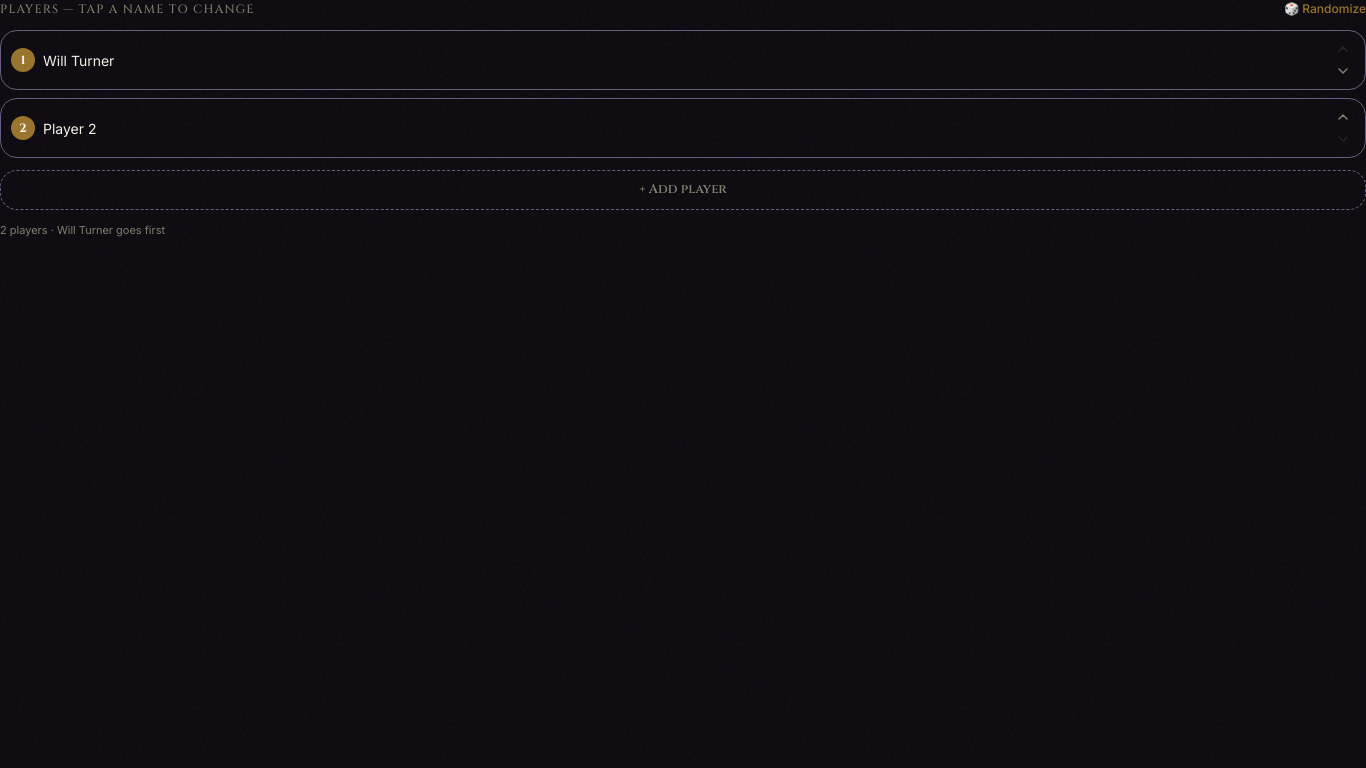
Scenario: PlayerRoster › does not offer a friend who is already at the table
Click the button "Player 2" at (70, 128), box [43, 118, 1323, 138]
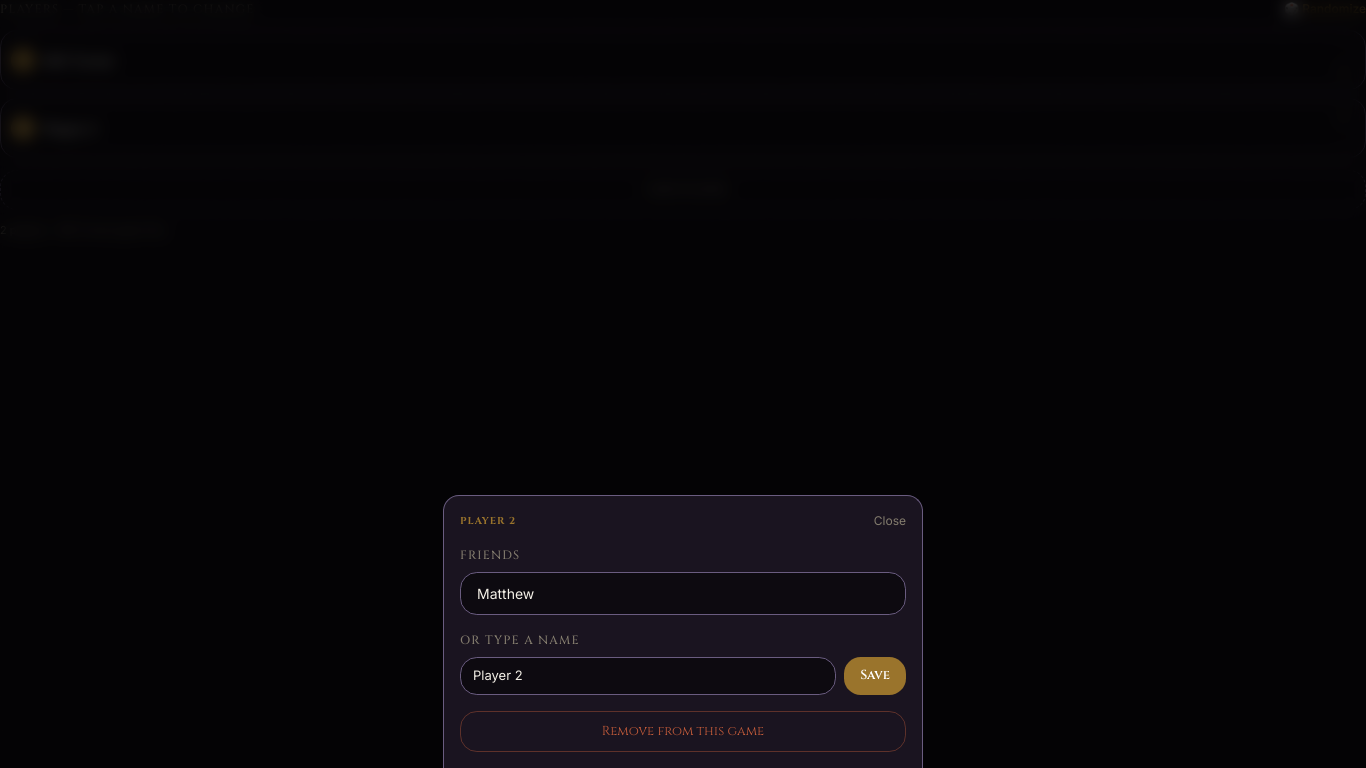
Check: the button "Matthew" is shown, box [460, 572, 906, 615]
